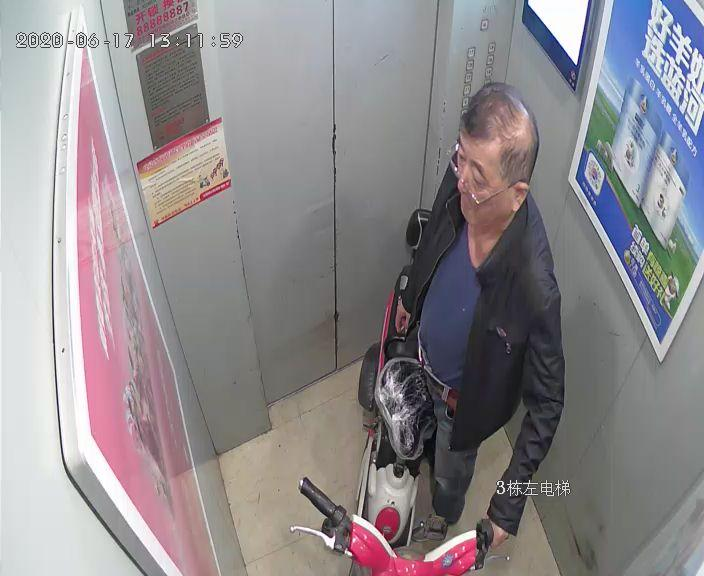Electric-bicycle: (288, 204, 507, 575)
